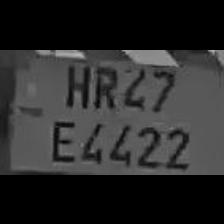2: (161, 120, 191, 170), (130, 118, 160, 166)
4: (119, 57, 147, 109), (104, 113, 132, 165), (77, 114, 105, 164)
7: (144, 59, 176, 113)
E: (46, 114, 76, 164)
H: (60, 55, 90, 109)
R: (89, 59, 117, 109)
